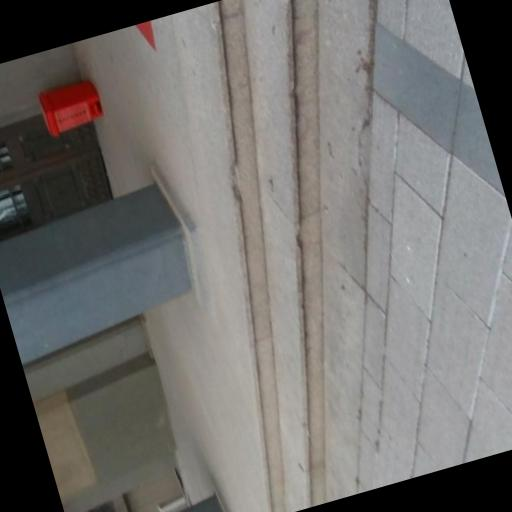stairs: (212, 0, 325, 511)
